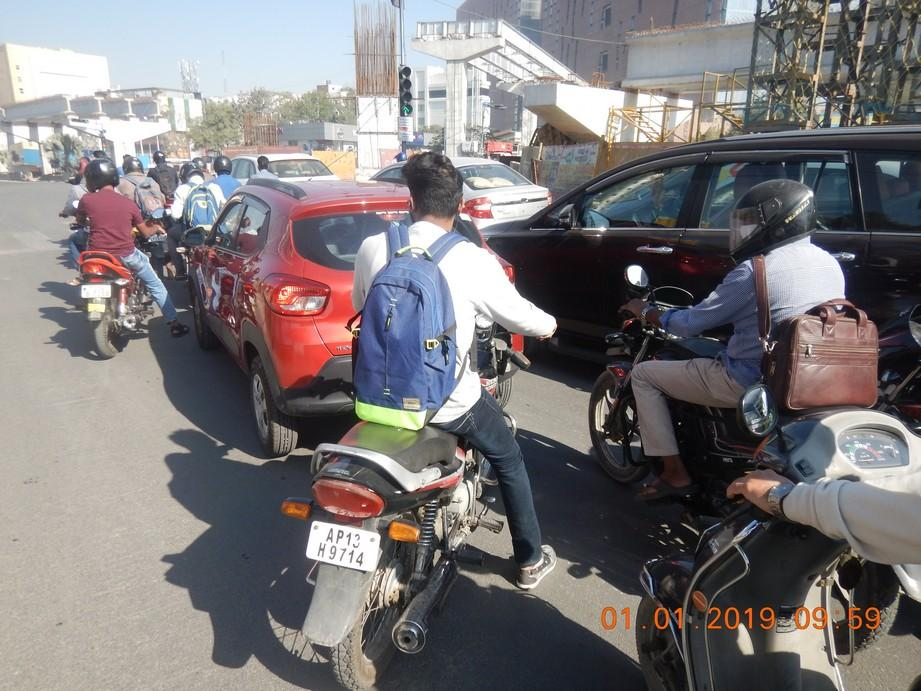plate: (310, 522, 373, 570)
